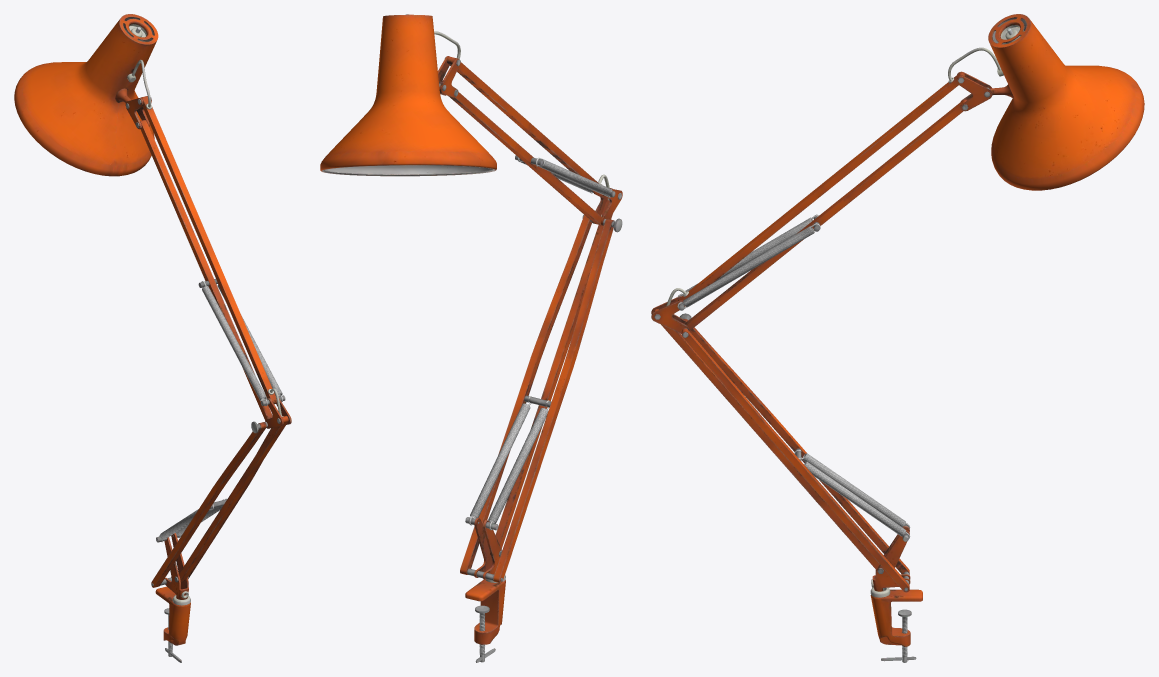
File: desk_lamp_arm_01.glb
3 views of the same model, side by side, from view 1: azimuth 30°, elevation 25°; view 2: azimuth 150°, elevation 25°; view 3: azimuth 270°, elevation 25° (orthographic). The views are drawn at different scales.
Visible parts, largest first — view 1: desk_lamp_arm_01; view 2: desk_lamp_arm_01; view 3: desk_lamp_arm_01.
Part boxes in pixels (left/top/right/bottom): desk_lamp_arm_01: left=14, top=14, right=291, bottom=662; desk_lamp_arm_01: left=320, top=14, right=622, bottom=662; desk_lamp_arm_01: left=651, top=14, right=1144, bottom=662.
Bounding box in the file's own units: 0.2017 × 0.8926 × 0.6139.
2 materials, 2 textured.
